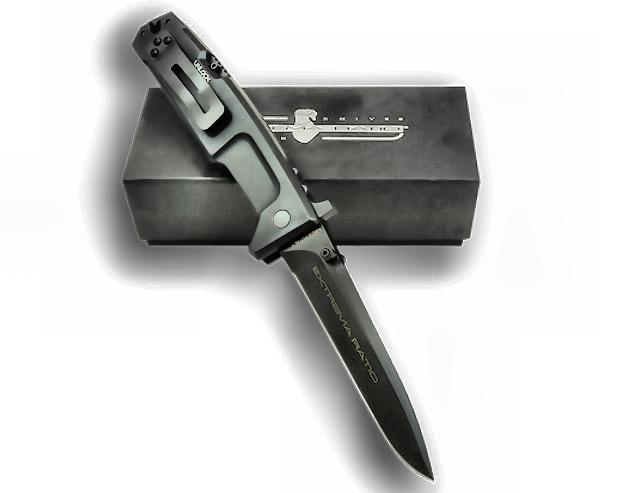knife: (272, 217, 436, 487)
